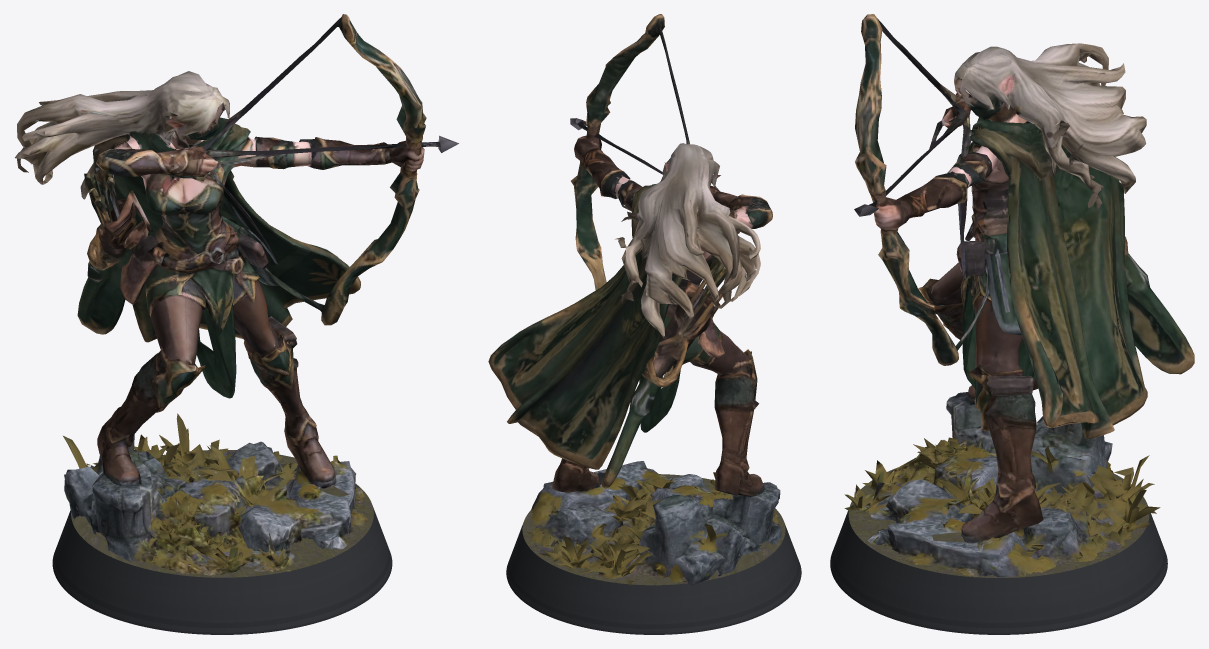
Rendered from archer.glb.
3 views of the same model, side by side, from view 1: azimuth 30°, elevation 25°; view 2: azimuth 150°, elevation 25°; view 3: azimuth 270°, elevation 25° (orthographic). The views are drawn at different scales.
Size of the model in its own units: 0.5919 by 1 by 0.5721.
3 materials, 3 textured.
